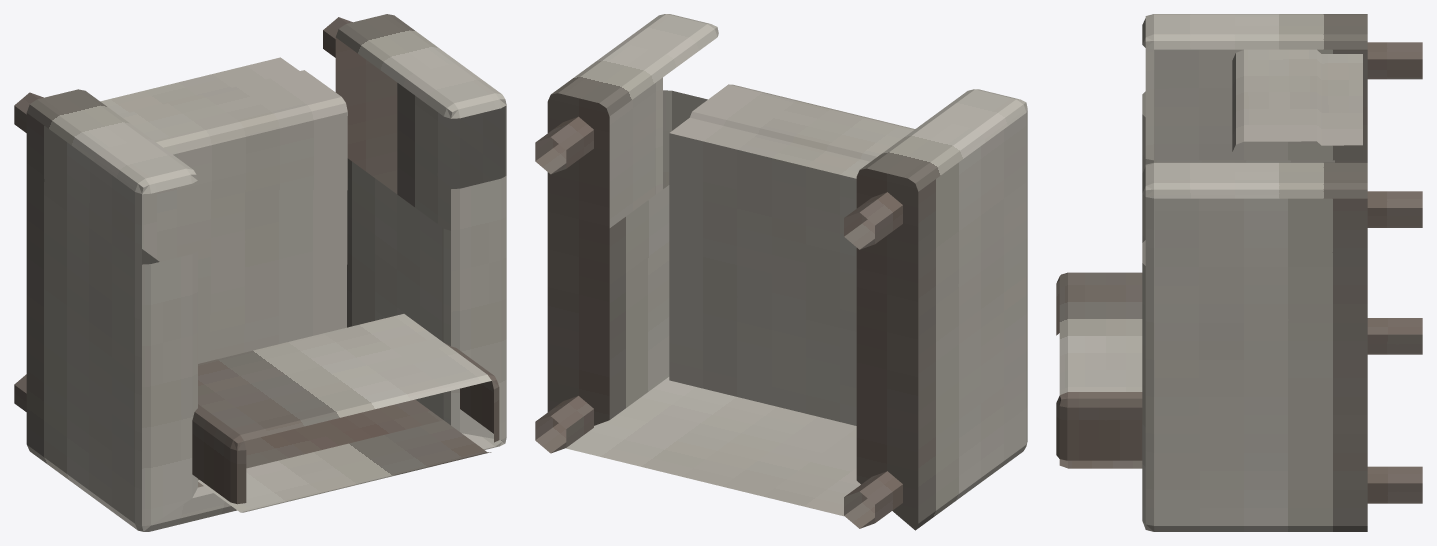
3 renders of one model, left to right at view 1: azimuth 30°, elevation 25°; view 2: azimuth 150°, elevation 25°; view 3: azimuth 270°, elevation 25°, orthographic.
Bounding box in the file's own units: 0.9 × 0.8199 × 0.7807.
